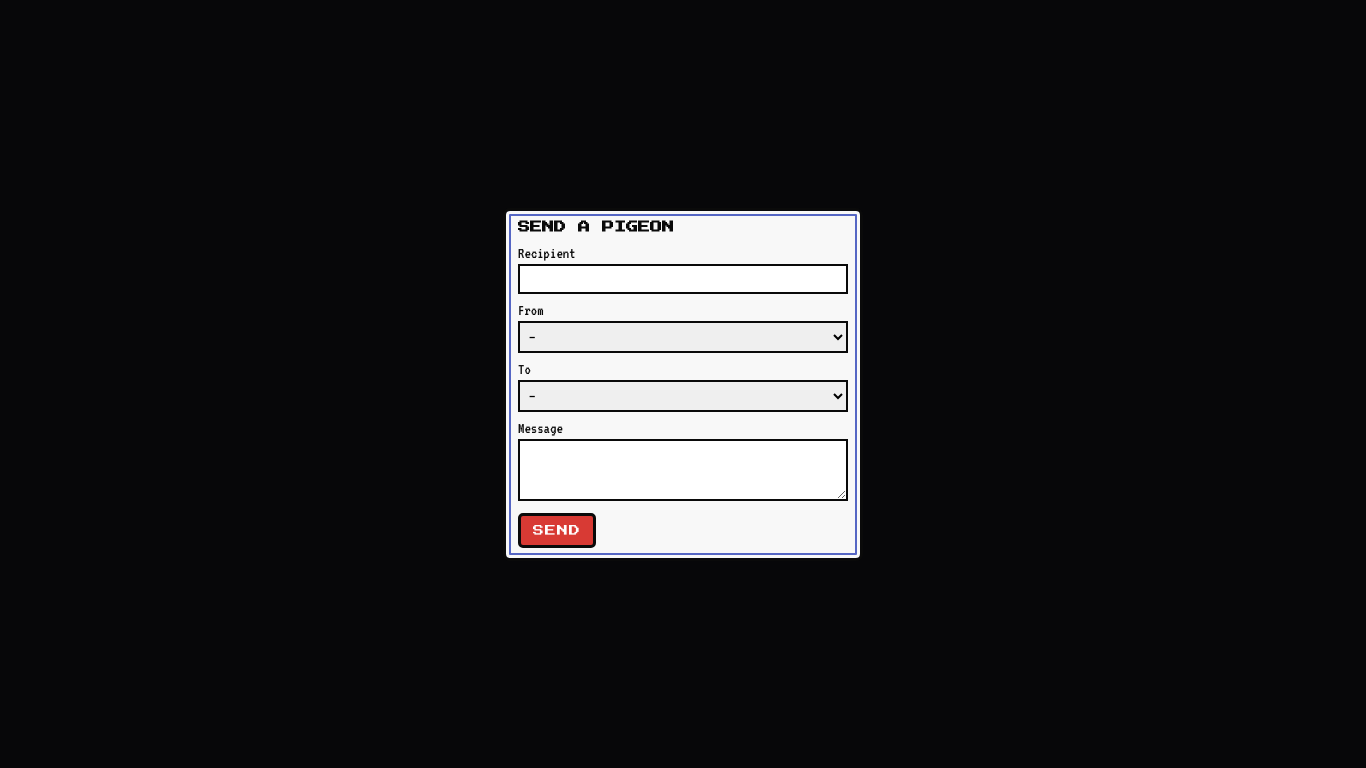
Test: blocks same origin and destination
The width and height of the screenshot is (1366, 768).
Step 1. Type "alex" into the field labelled "Recipient" → (683, 278), box [518, 264, 848, 294]
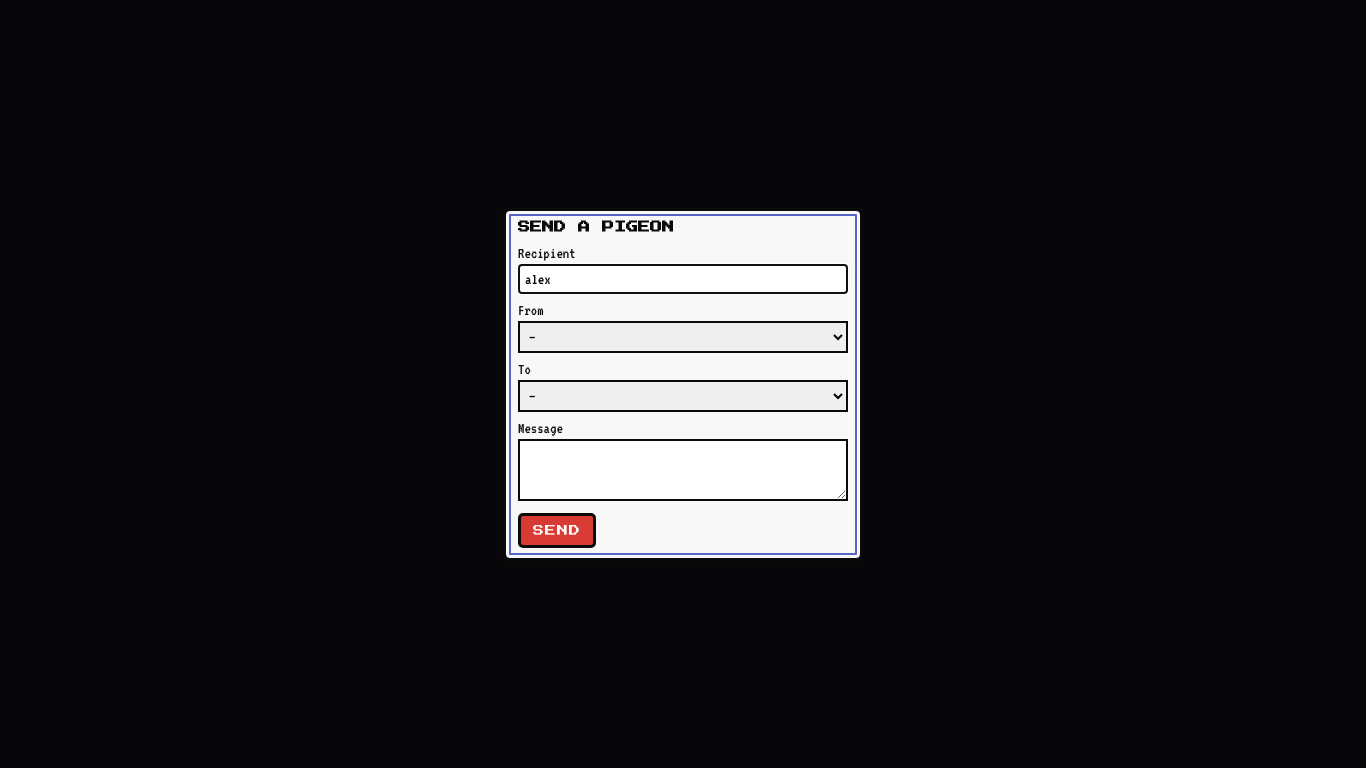
Step 2. Select "Tokyo" in the dropdown labelled "From" → (683, 336), box [518, 320, 848, 352]
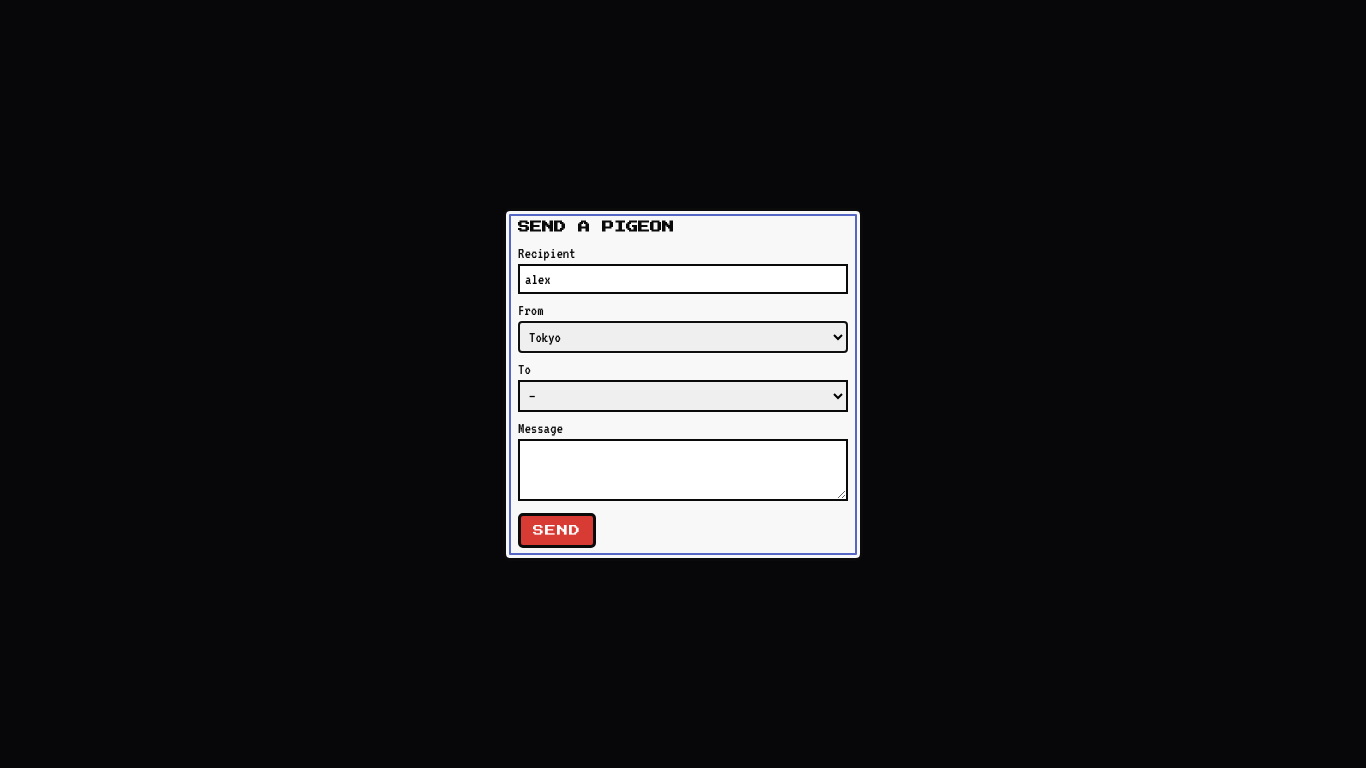
Step 3. Select "Tokyo" in the dropdown labelled "To" → (683, 396), box [518, 380, 848, 412]
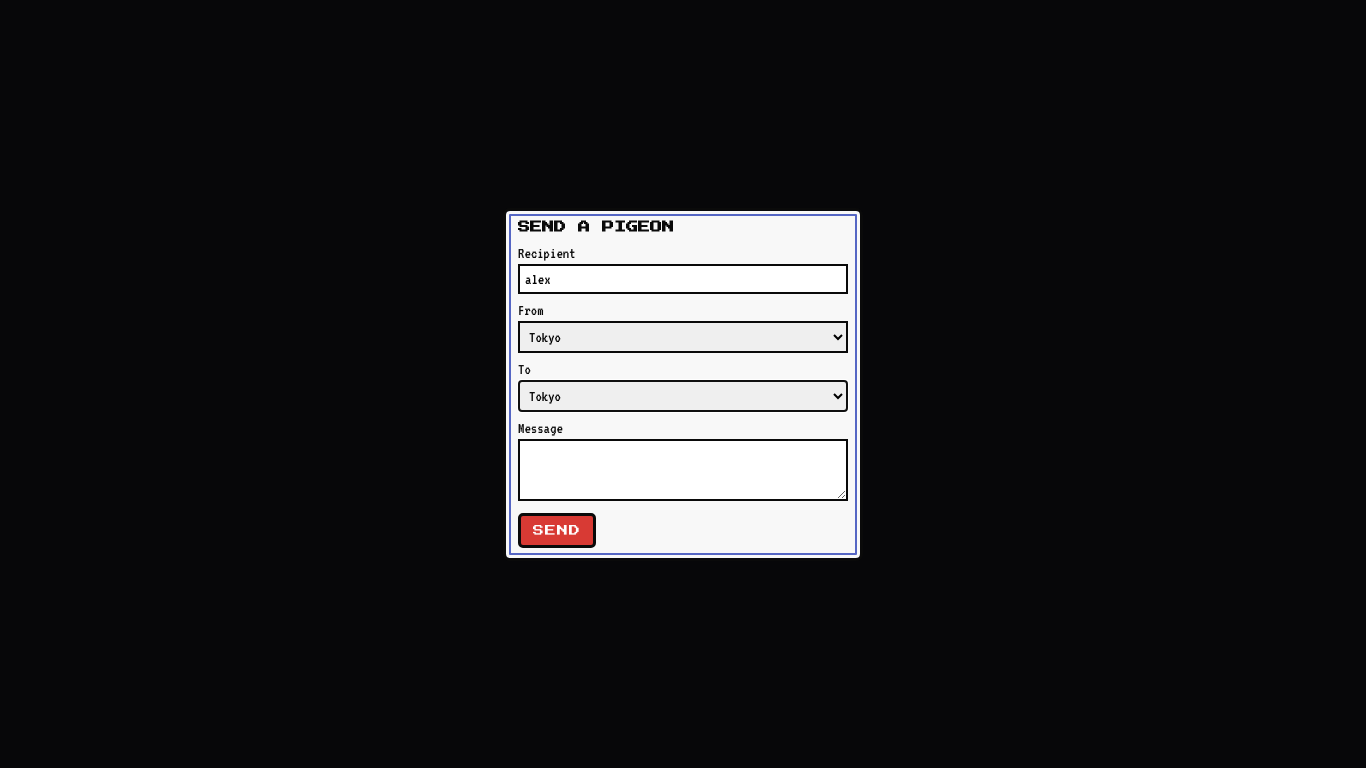
Step 4. Type "hi" into the text box labelled "Message" → (683, 470), box [518, 438, 848, 500]
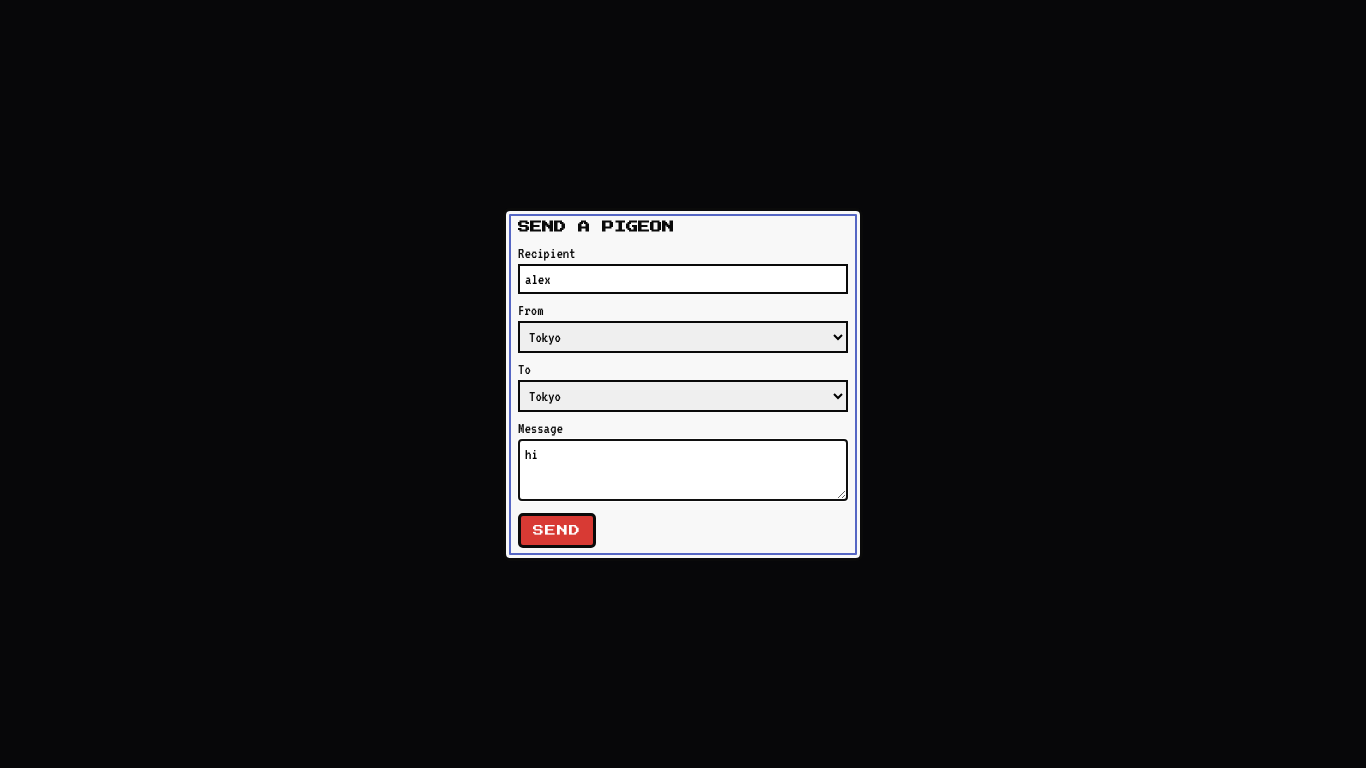
Step 5. Click the button "SEND" → (557, 530), box [518, 512, 596, 548]
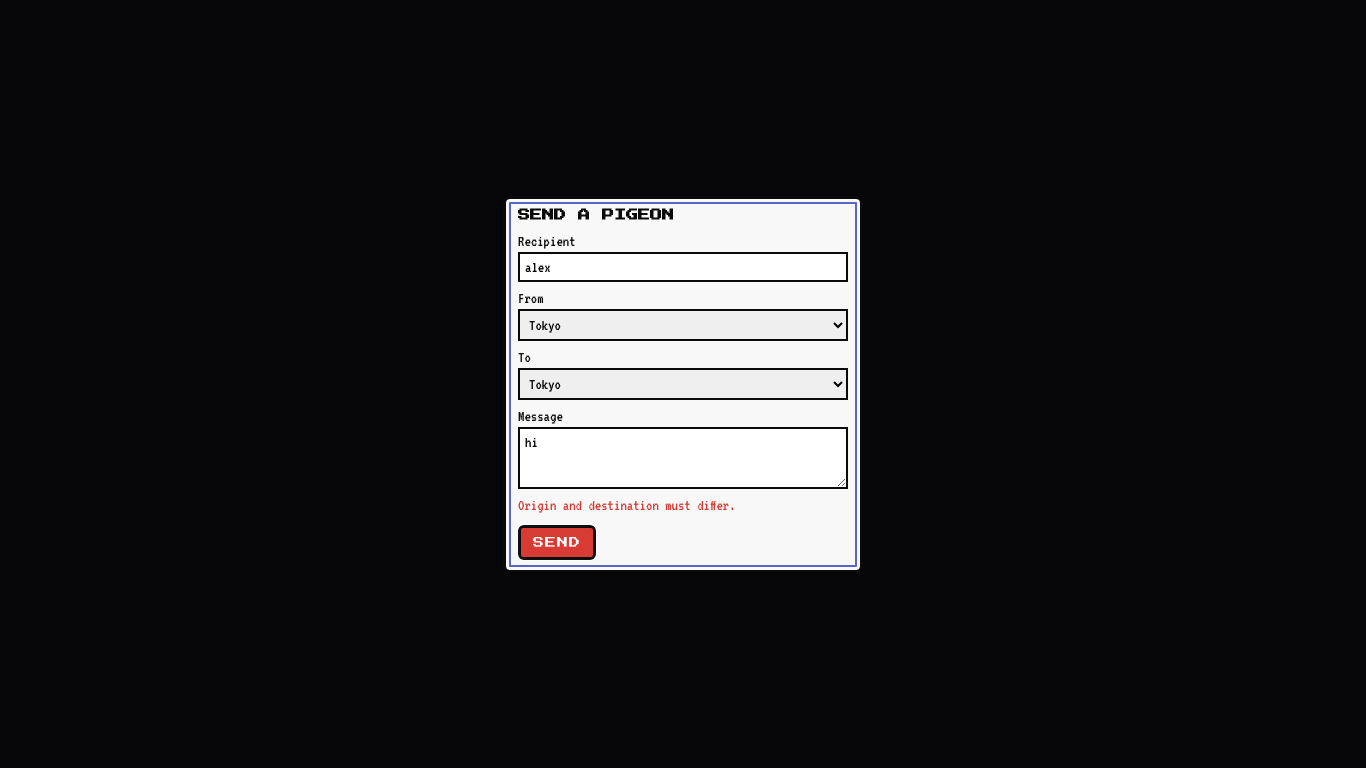
Result: the text "Origin and destination must differ." is shown at [518, 496, 736, 512]
